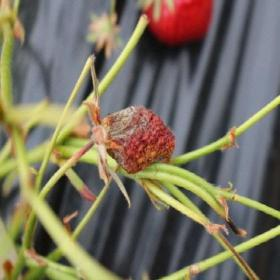Gray Mold: (75, 101, 176, 182)
